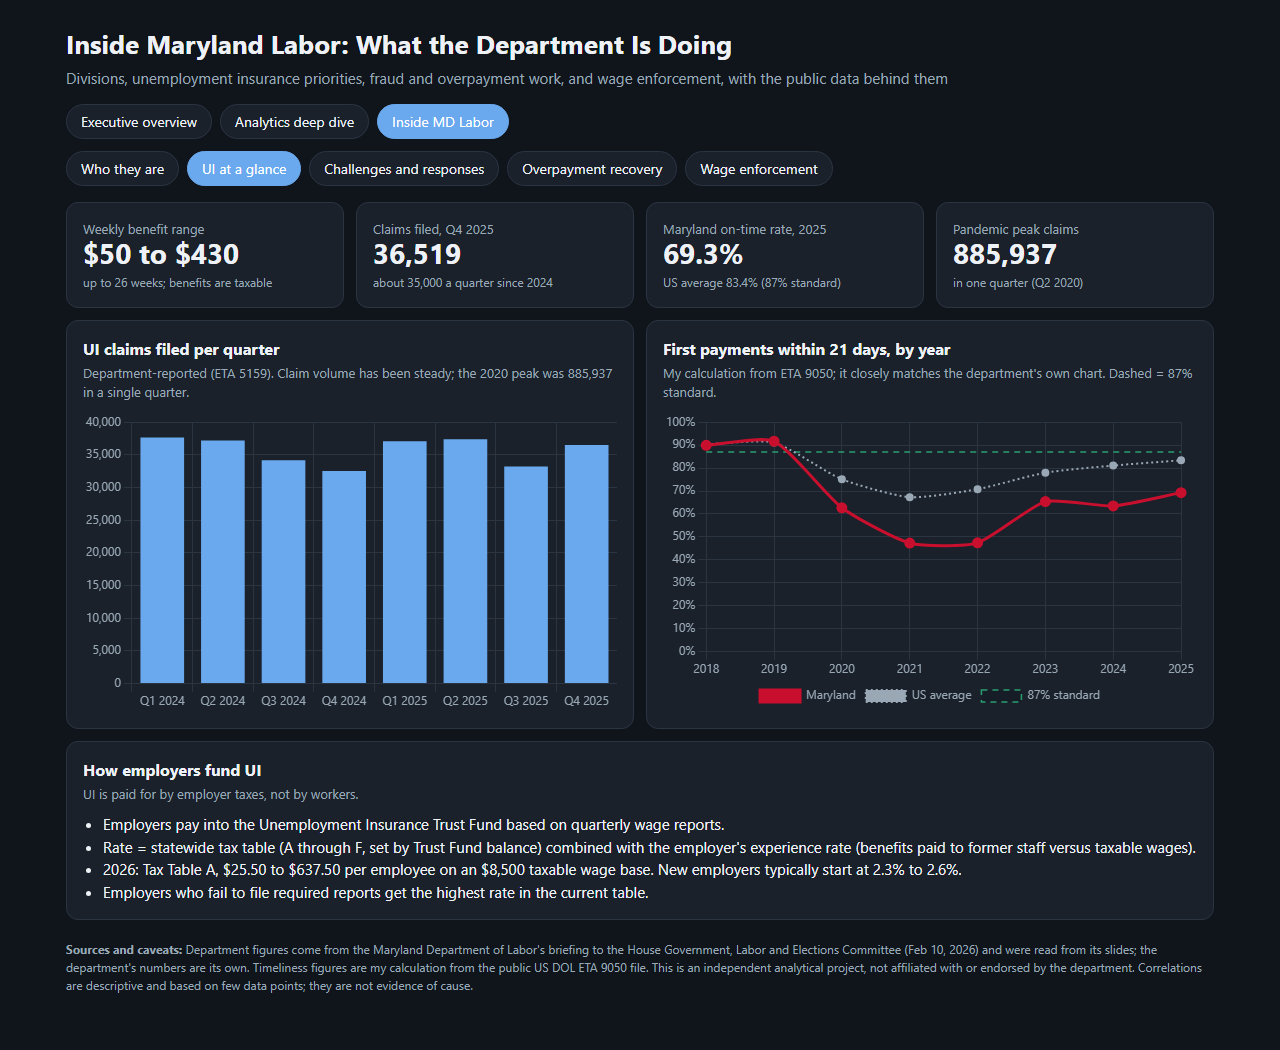

The dashboard page shown, as its layout file describes it:
{"tool":"powerbi","page":{"name":"Inside MD Labor","canvas":[1280,720],"ordinal":2},"visuals":[{"type":"lineChart","title":"On-time rate by year: Maryland vs US","fields":{"Category":["AnnualTimeliness.y"],"Y":["AnnualTimeliness.Maryland Annual %","AnnualTimeliness.US Annual %"]},"box":[20,20,620,330],"z":0},{"type":"lineChart","title":"Suspected-fraud share vs on-time rate (quarterly)","fields":{"Category":["FraudVsTimeliness.q"],"Y":["FraudVsTimeliness.Fraud Share %","FraudVsTimeliness.Paid Within 21 Days (quarterly)"]},"box":[650,20,610,330],"z":0},{"type":"clusteredColumnChart","title":"UI claims filed per quarter (department-reported)","fields":{"Category":["DeptClaims.quarter"],"Y":["DeptClaims.Claims Filed"]},"box":[20,365,620,340],"z":0},{"type":"clusteredColumnChart","title":"Wages recovered for workers (department-reported)","fields":{"Category":["WagesRecovered.fiscal_year"],"Y":["WagesRecovered.Wages Recovered"]},"box":[650,365,610,340],"z":0}]}

Visuals, with their boxes on the page's 1280x720 design canvas (x1, y1, x2, y2). These are canvas units, not pixel positions in the 1280x1050 screenshot, which may show the page scaled, cropped or inside an application window:
"On-time rate by year: Maryland vs US" lineChart: crop(20, 20, 640, 350)
"Suspected-fraud share vs on-time rate (quarterly)" lineChart: crop(650, 20, 1260, 350)
"UI claims filed per quarter (department-reported)" clusteredColumnChart: crop(20, 365, 640, 705)
"Wages recovered for workers (department-reported)" clusteredColumnChart: crop(650, 365, 1260, 705)
